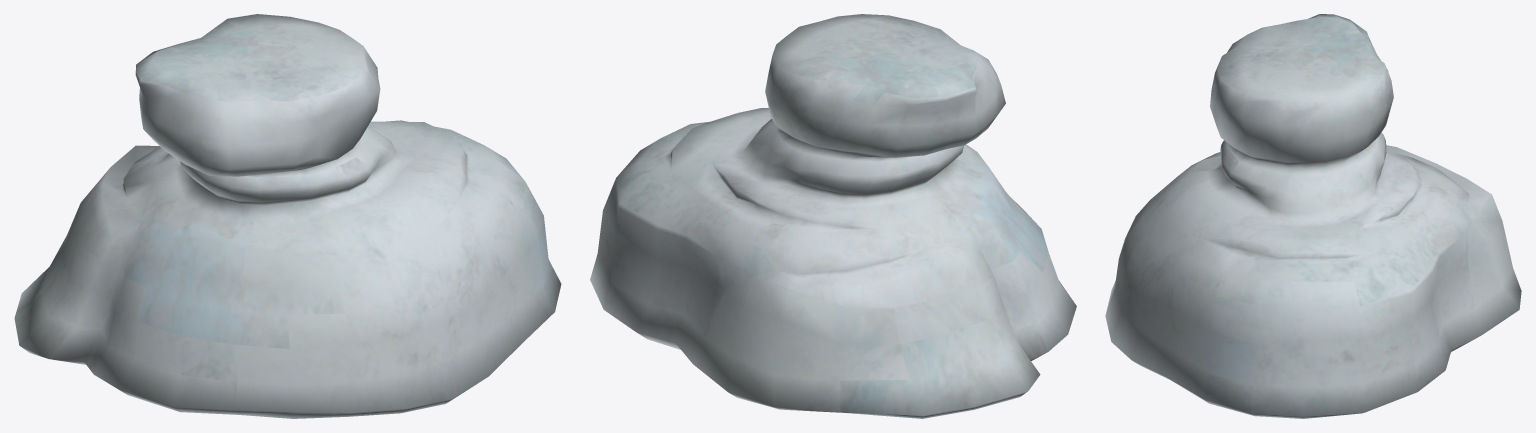
Rendered from P_RockDesert_Platform01.obj.
The picture shows the model from 3 angles, left to right: view 1: azimuth 30°, elevation 25°; view 2: azimuth 150°, elevation 25°; view 3: azimuth 270°, elevation 25°; orthographic projection. The views are drawn at different scales.
Size of the model in its own units: 21.97 by 13.39 by 18.92.
